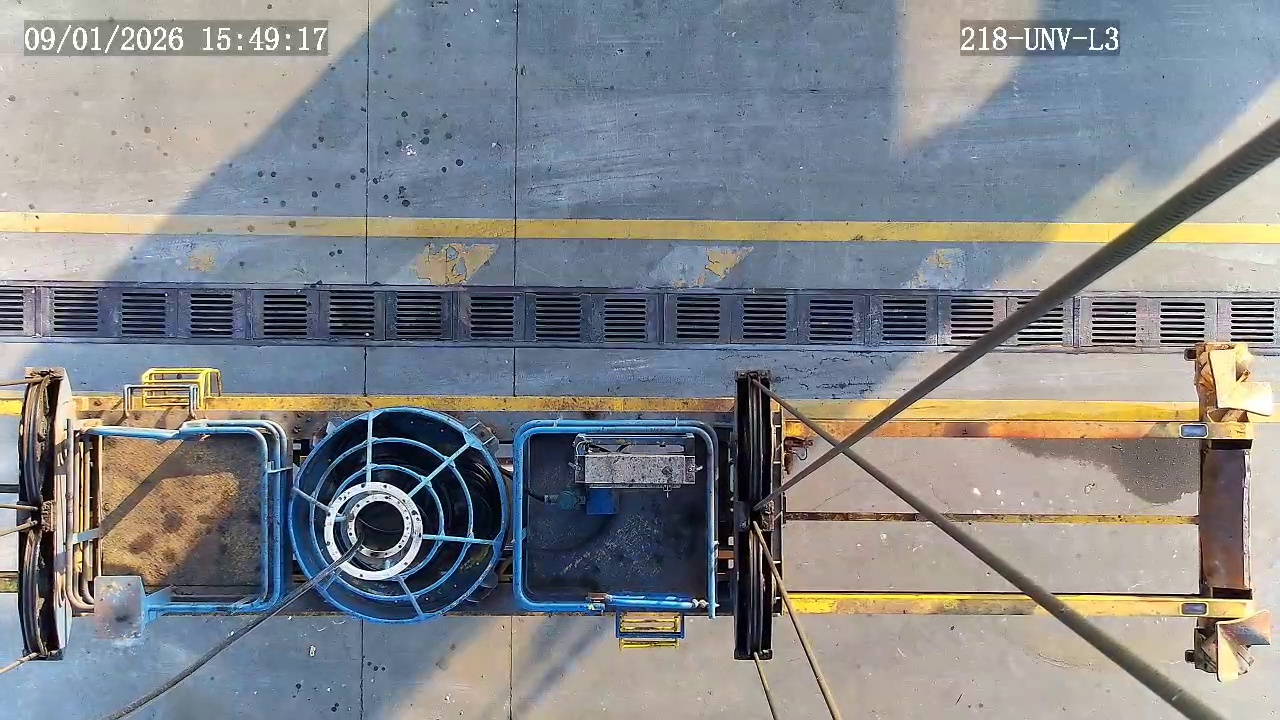right: (289, 408, 504, 625)
